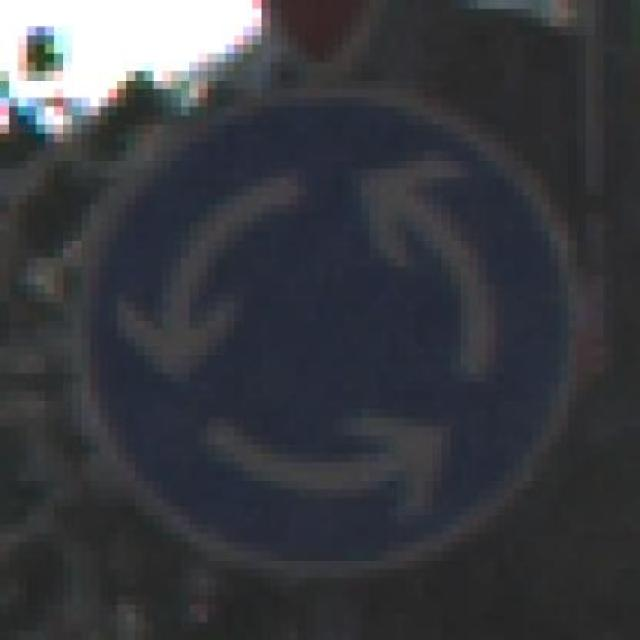Round-About: (36, 70, 613, 604)
